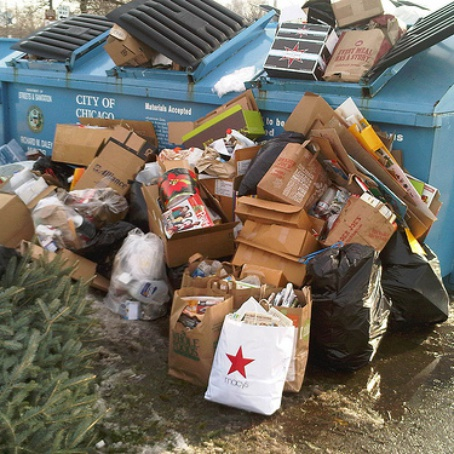trash: (1, 1, 454, 433)
